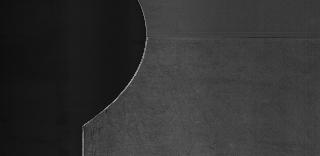welding line: (136, 28, 320, 44)
